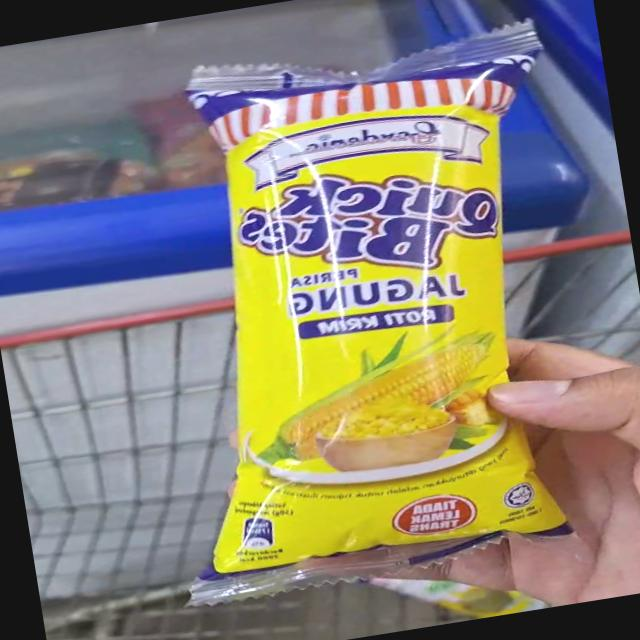Roti: (107, 22, 608, 614)
